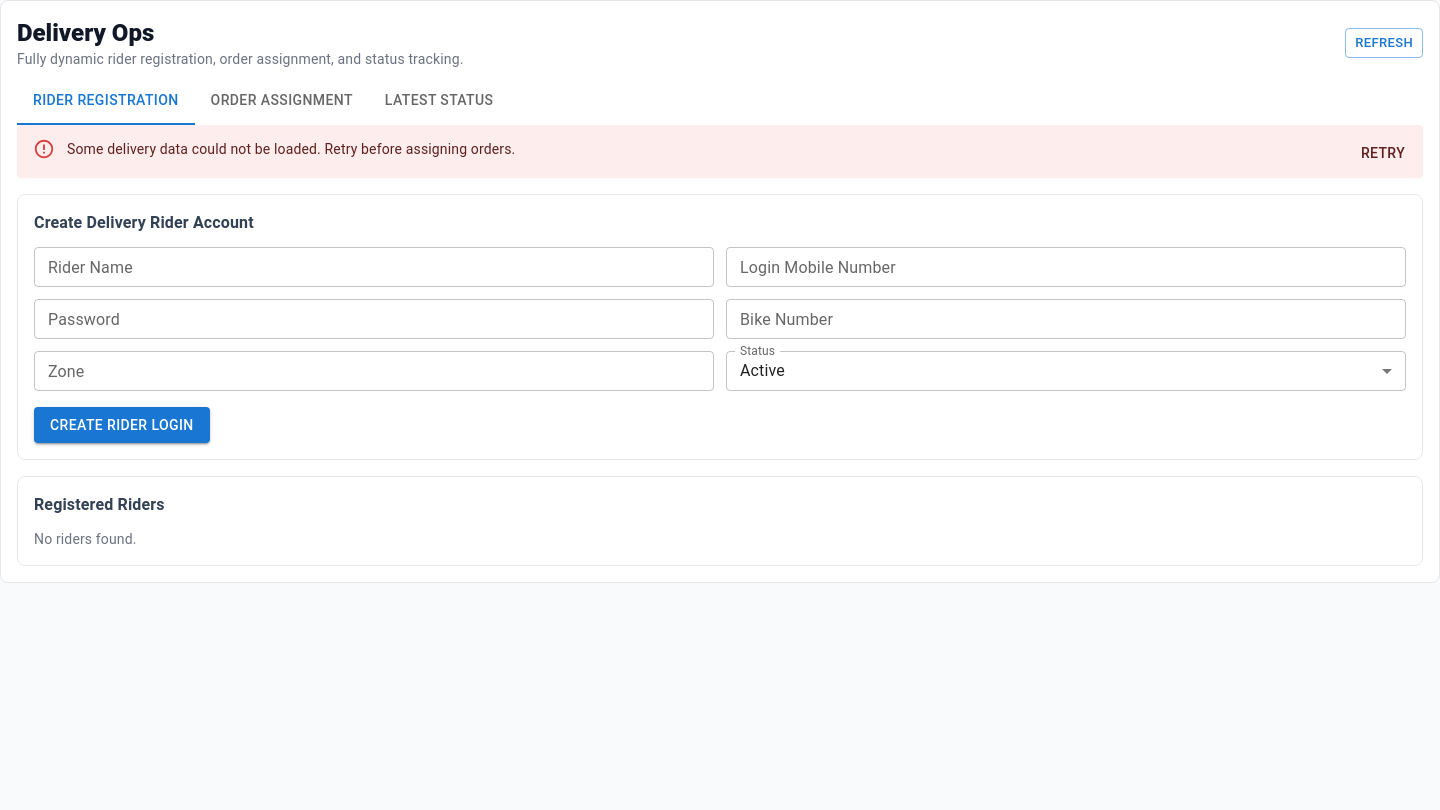
admin sees delivery loading failures and can retry
Expected: the text "Some delivery data could not be loaded" is shown, 67,141 -> 515,157
Click the button "Retry": (1383, 153) 1351,135 -> 1415,172
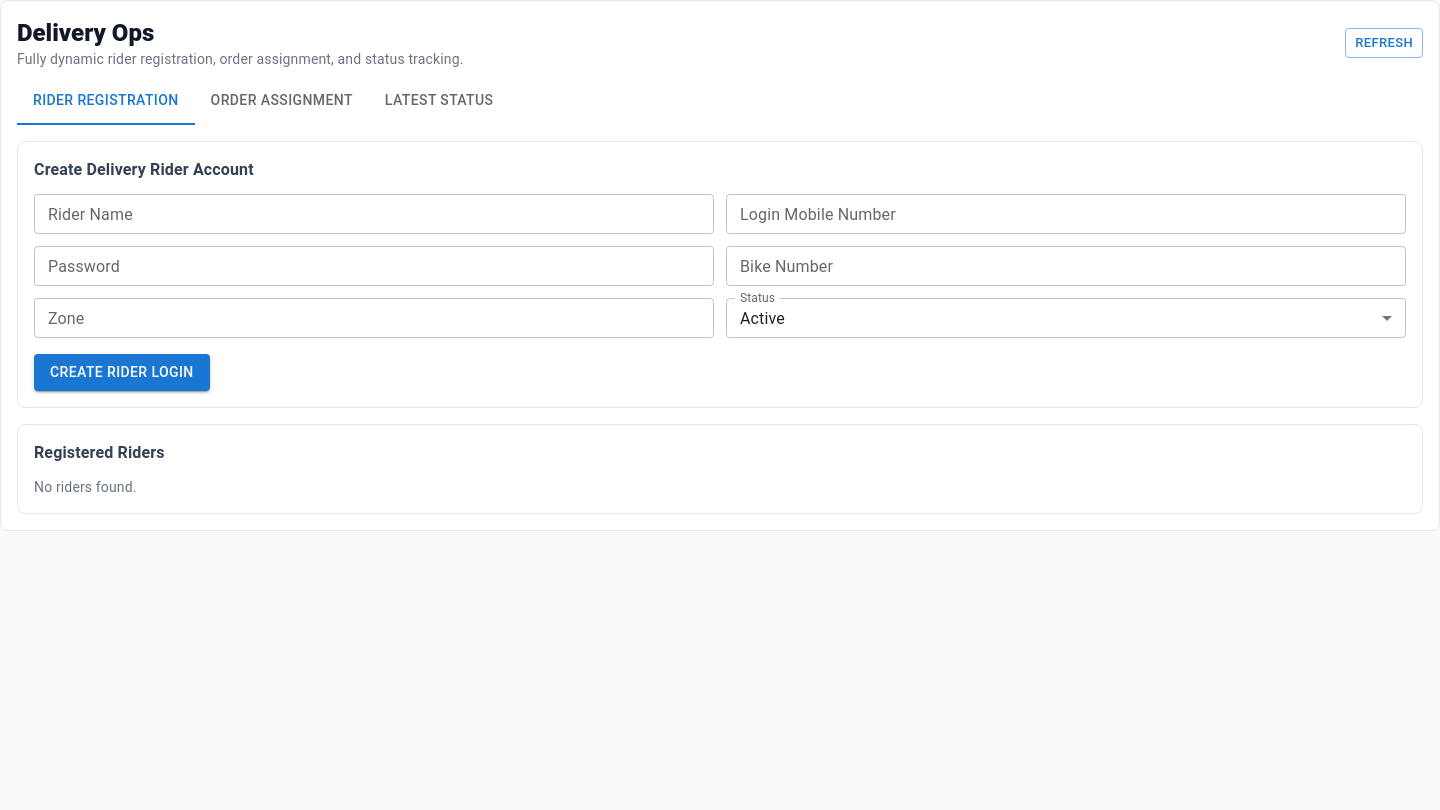
Result: the text "Some delivery data could not be loaded" is gone
